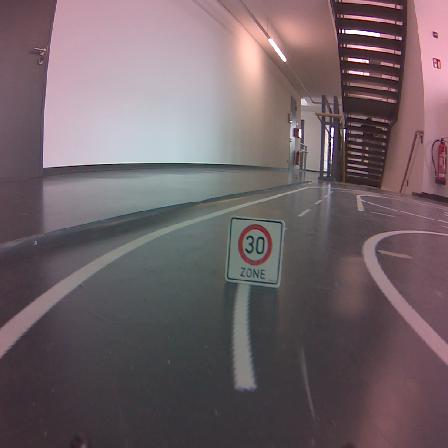30_ZONE_BEGIN: (226, 216, 285, 287)
